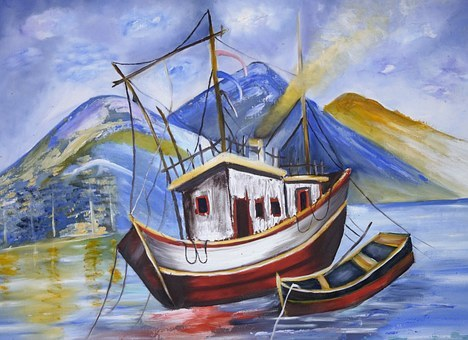boat: (105, 5, 355, 312), (273, 227, 417, 321)
